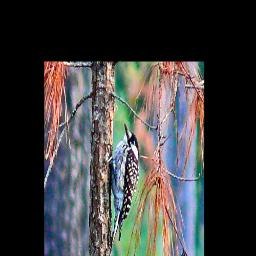Woodpecker: (99, 117, 145, 256)
